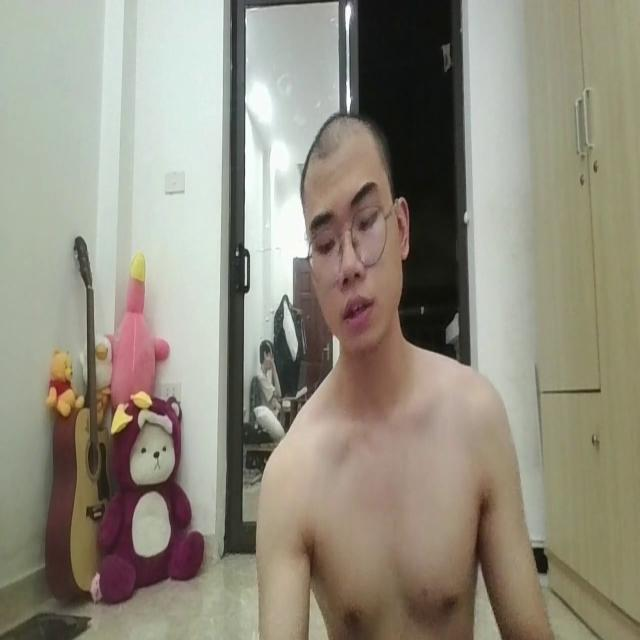extra_person: (236, 316, 319, 443)
student: (216, 68, 574, 640)
